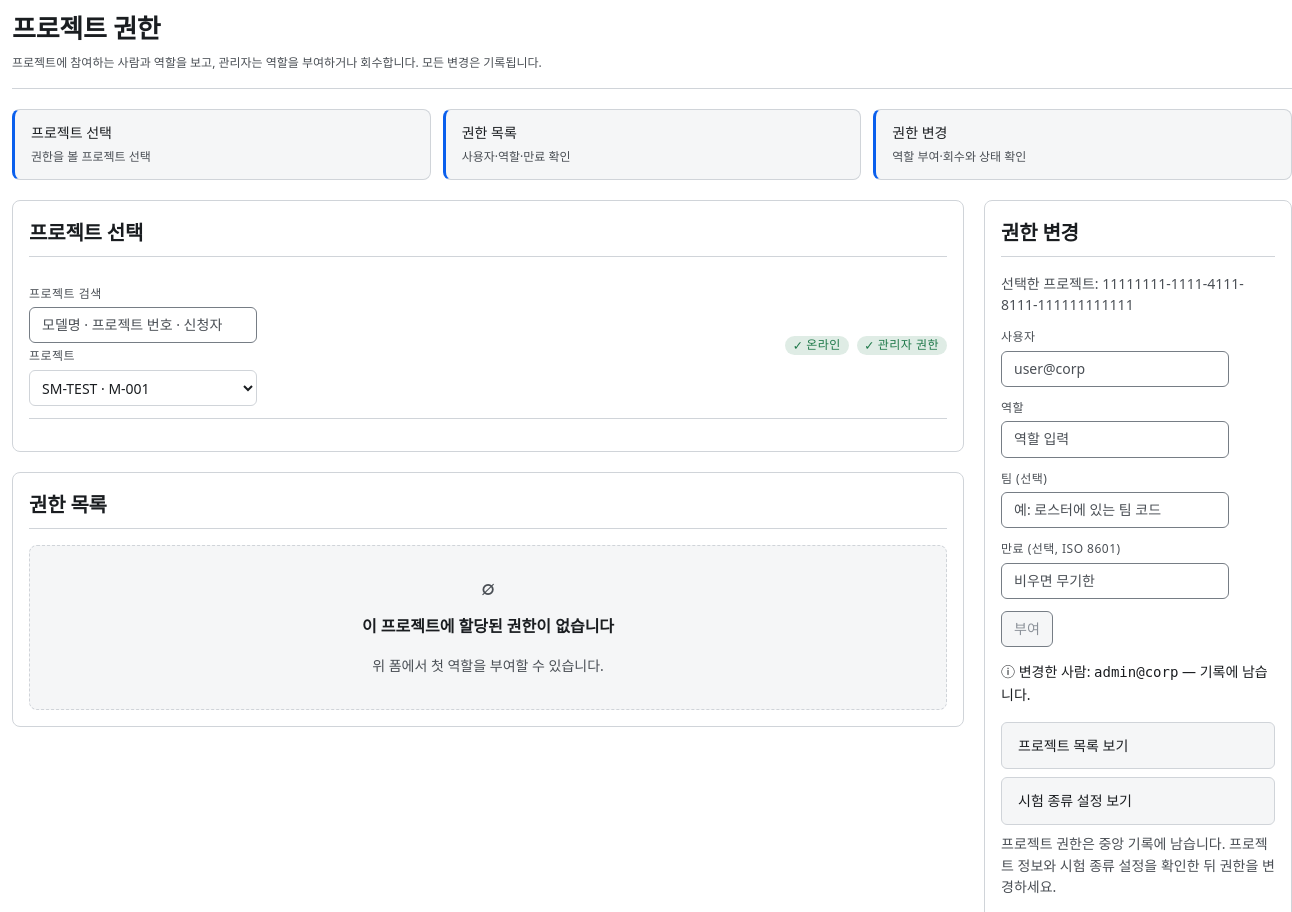
Scenario: MembershipRoute admin write (optimistic write + reconcile) › surfaces a write error message on a failed assign
Check: the form with test id "membership-assign-form" is shown, box [1001,328,1275,706]
Step 1. Type "bob@corp" into the field with test id "assign-user-input" → coordinates (1115, 369), box [1001,351,1229,387]
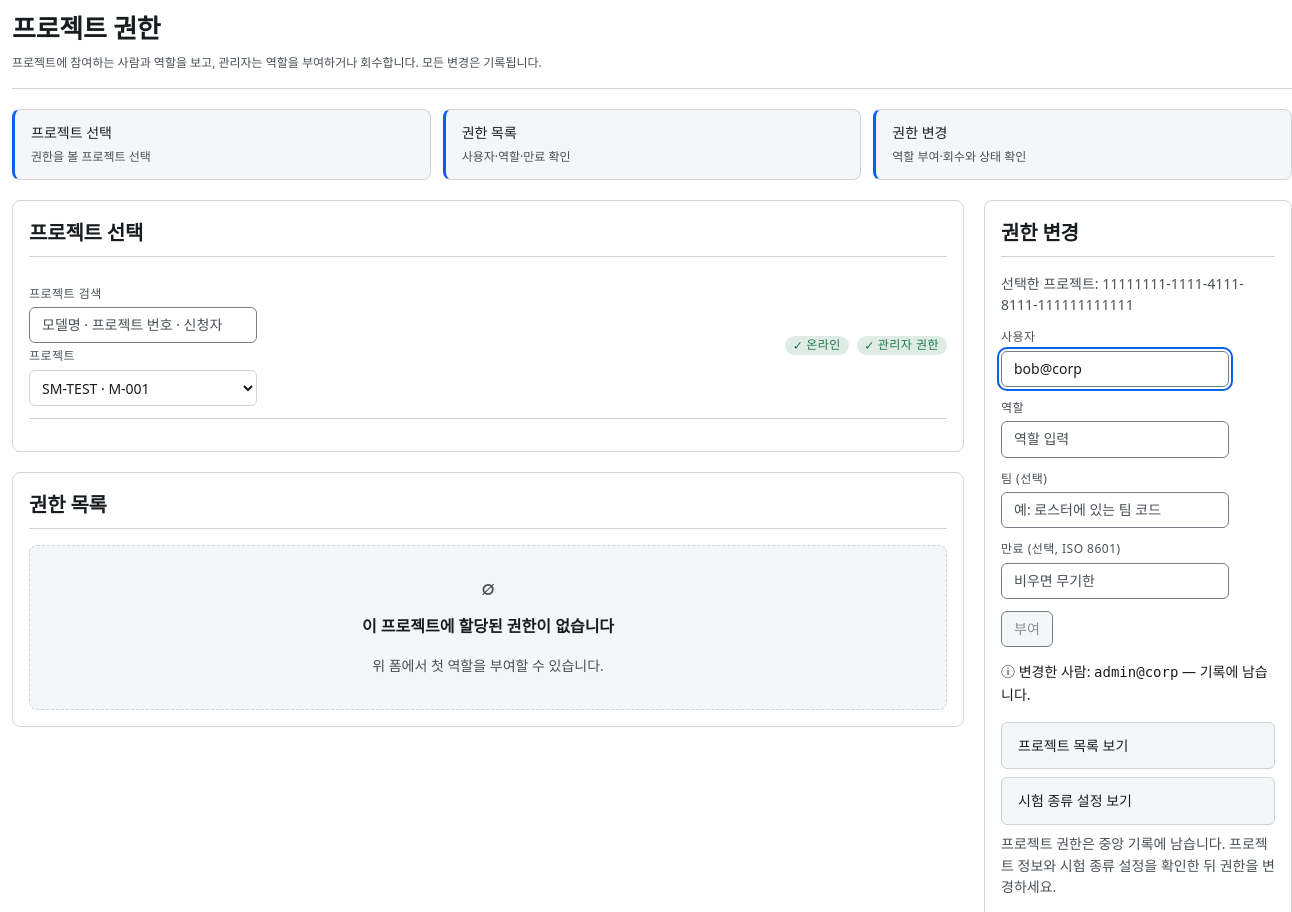
Step 2. Type "nope" into the field with test id "assign-role-input" → coordinates (1115, 440), box [1001,421,1229,458]
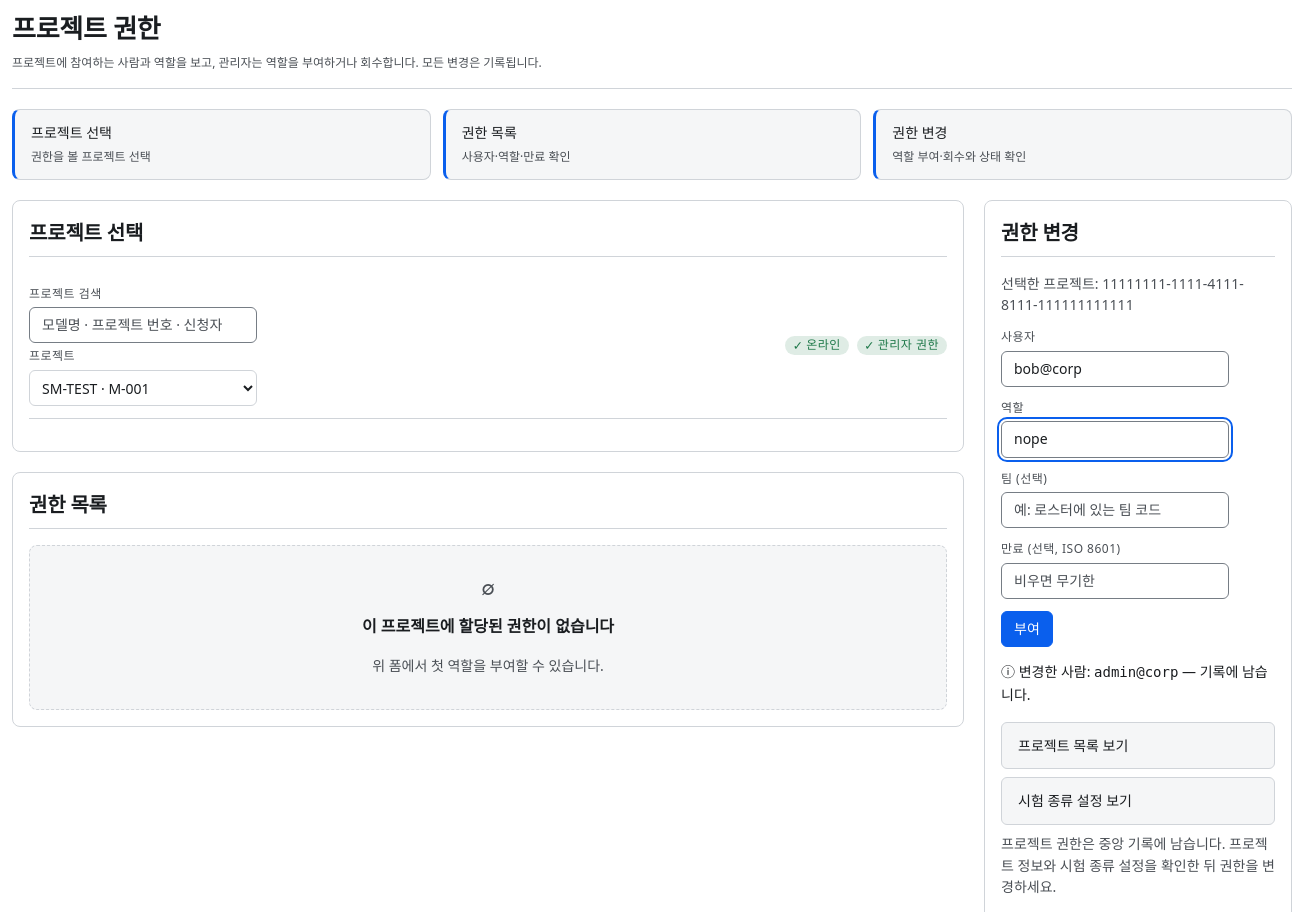
Step 3. Click the button with test id "assign-submit" → coordinates (1027, 629), box [1001,611,1053,647]
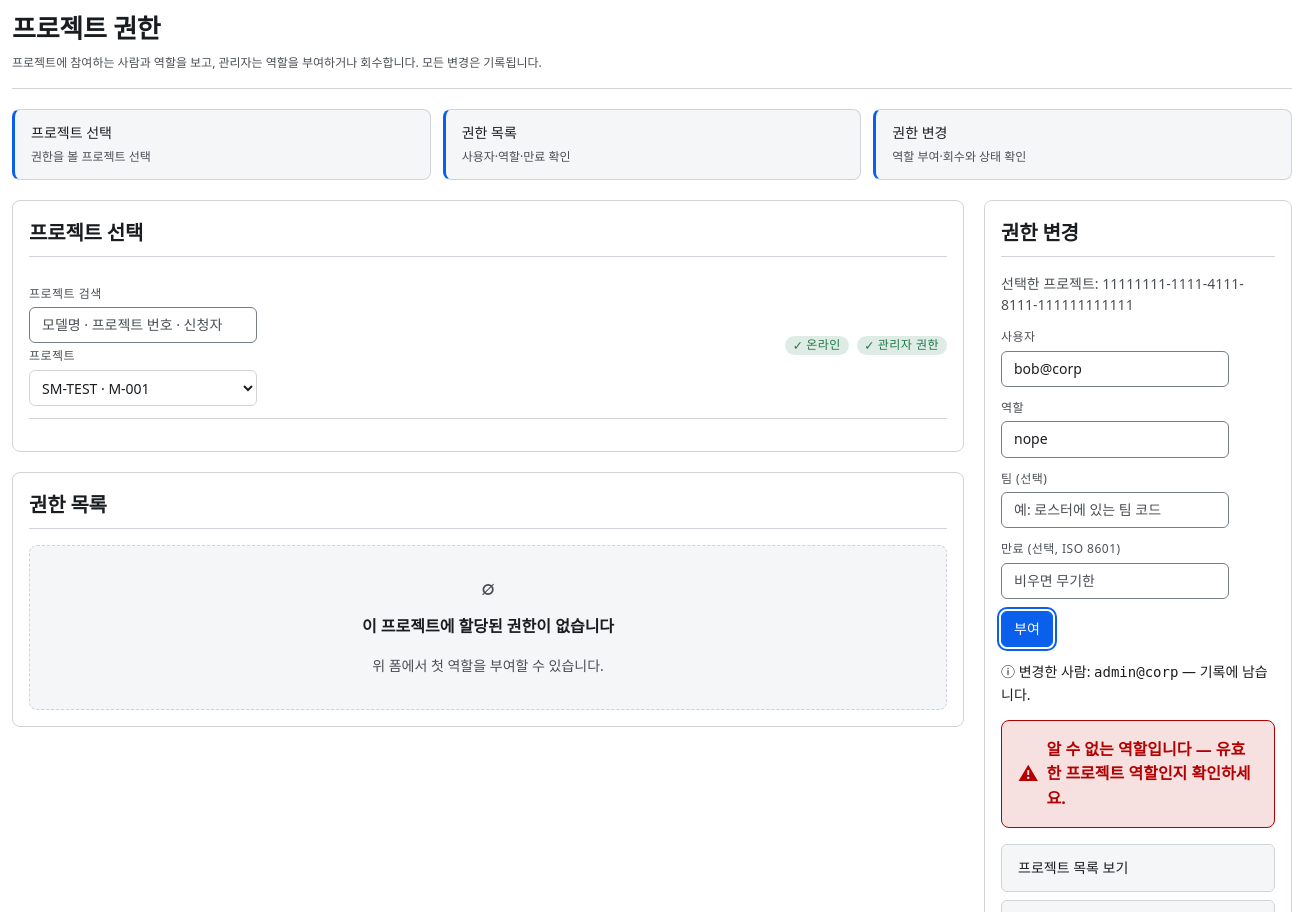
Check: the message "알 수 없는 역할입니다 — 유효한 프로젝트 역할인지 확인하세요." is shown, box [1001,720,1275,828]
